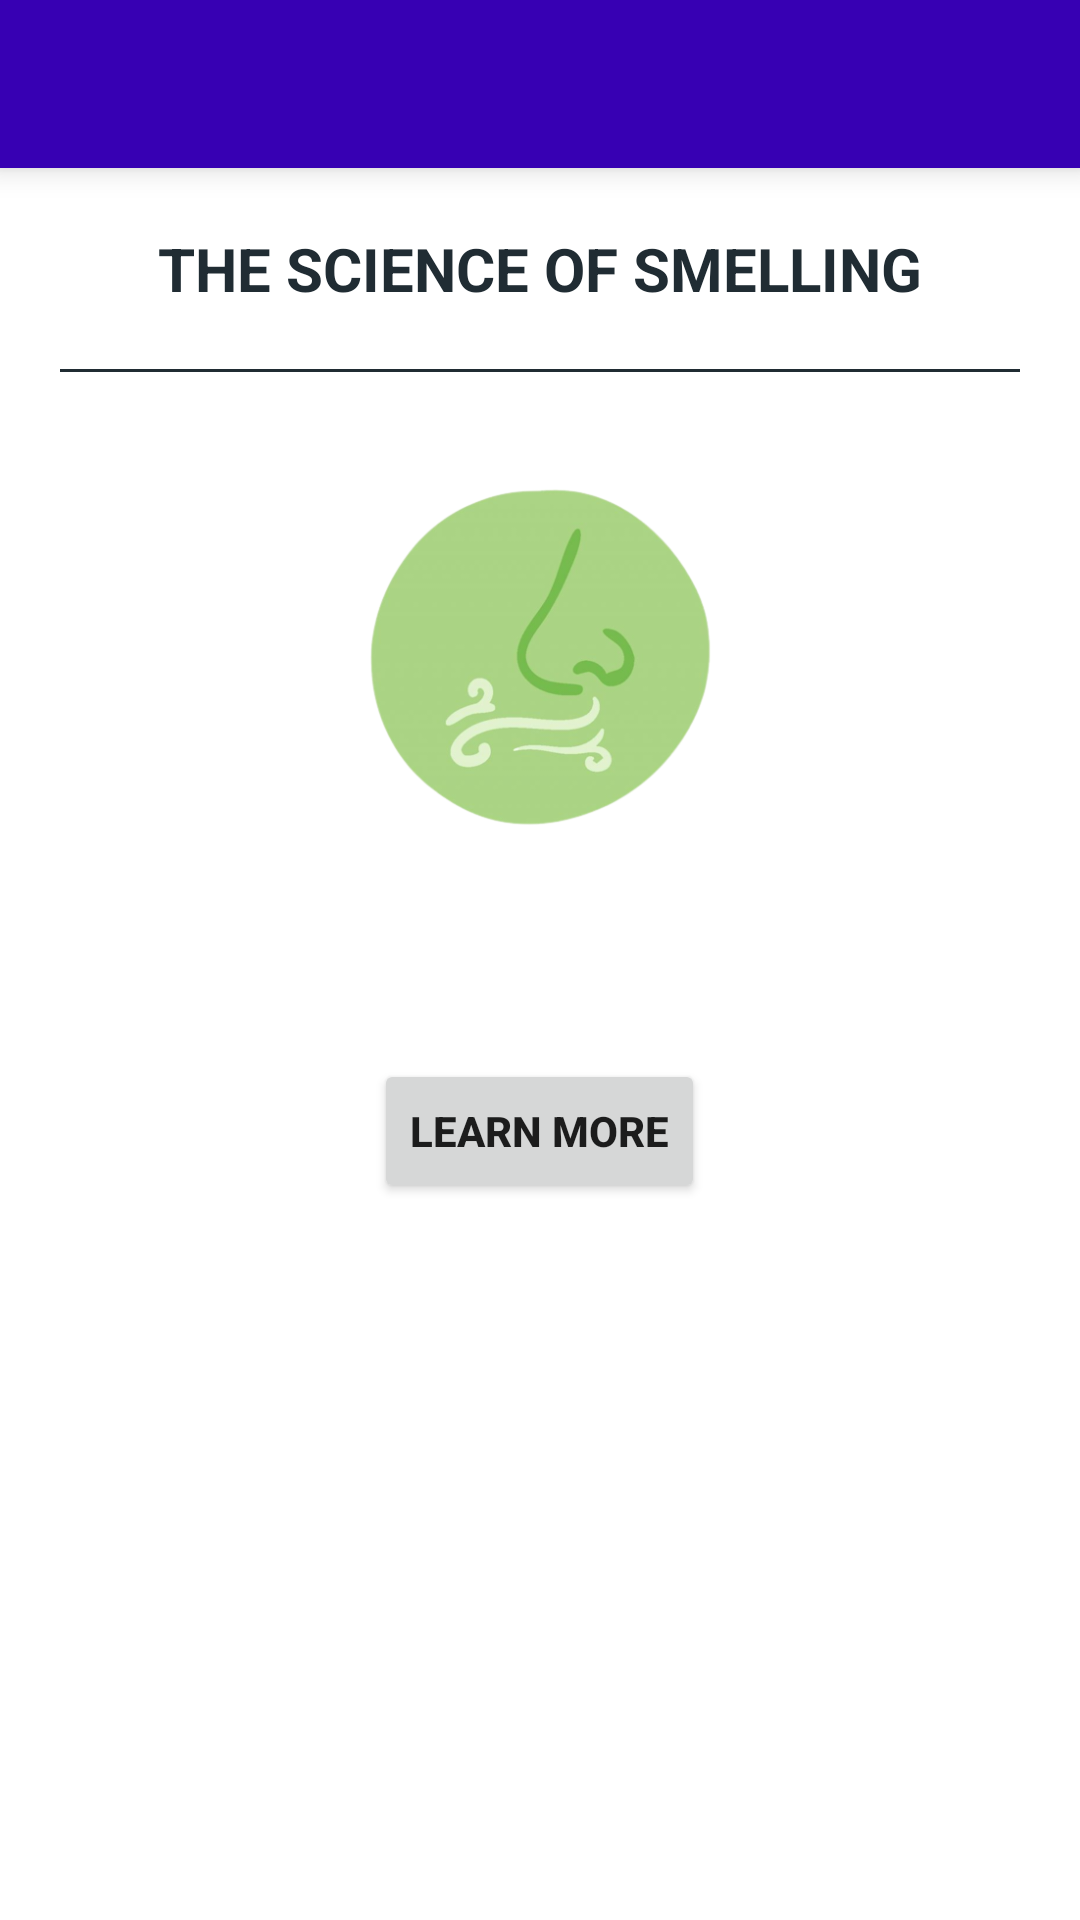

Screen size 1080 × 1920. Icon name, then its box in pixels as box=[x1, y1, x2, y2]:
smell thumb: box=[371, 490, 710, 825]
